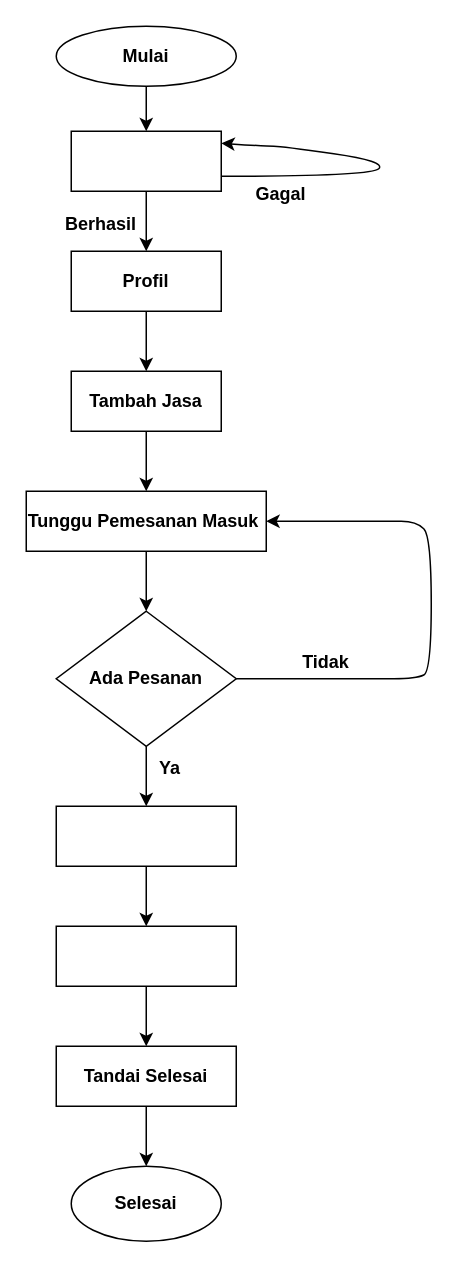
Image size: 458x1268. Some labels were removed from this diagram. The shapes that lost their labels are listed below. From the top down, each one's box as (x1, y1, x2, y2) in pixels, then its label:
(70, 130, 221, 191): Login
(55, 805, 236, 866): Konfirmasi Pesanan
(55, 925, 236, 986): Kerjakan Pesanan
